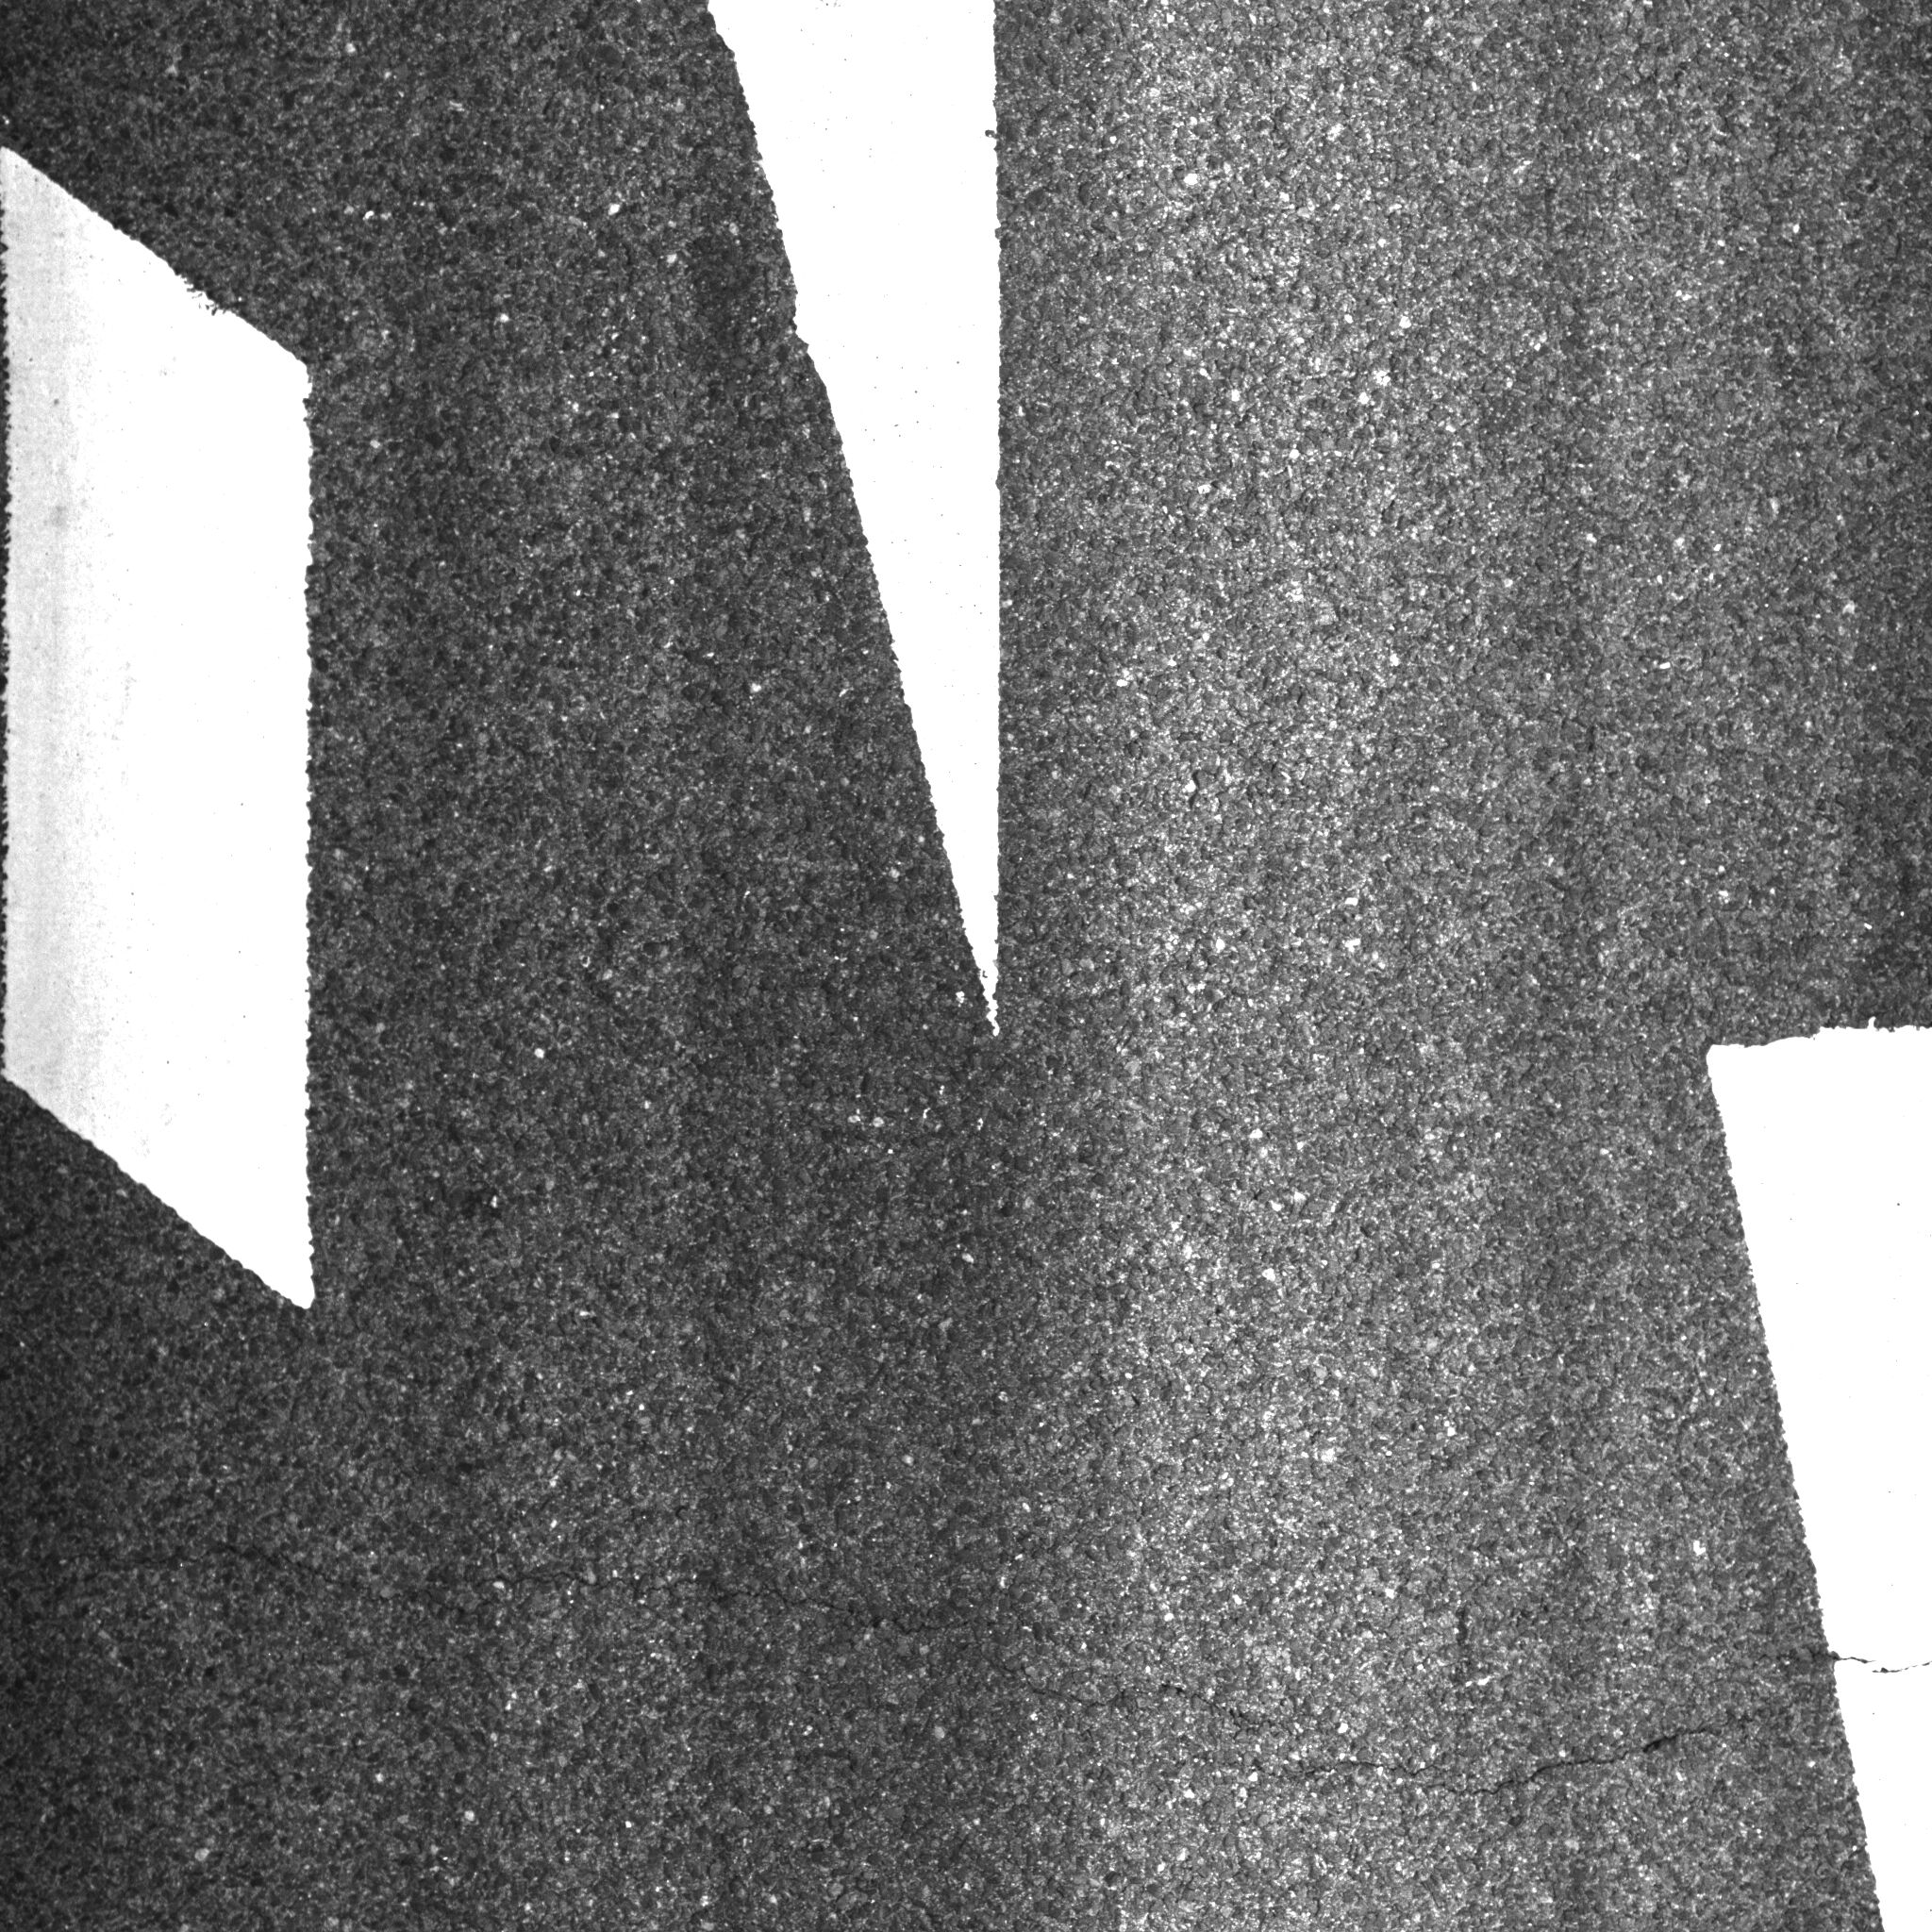transverse: (37, 1468, 1900, 1813)
